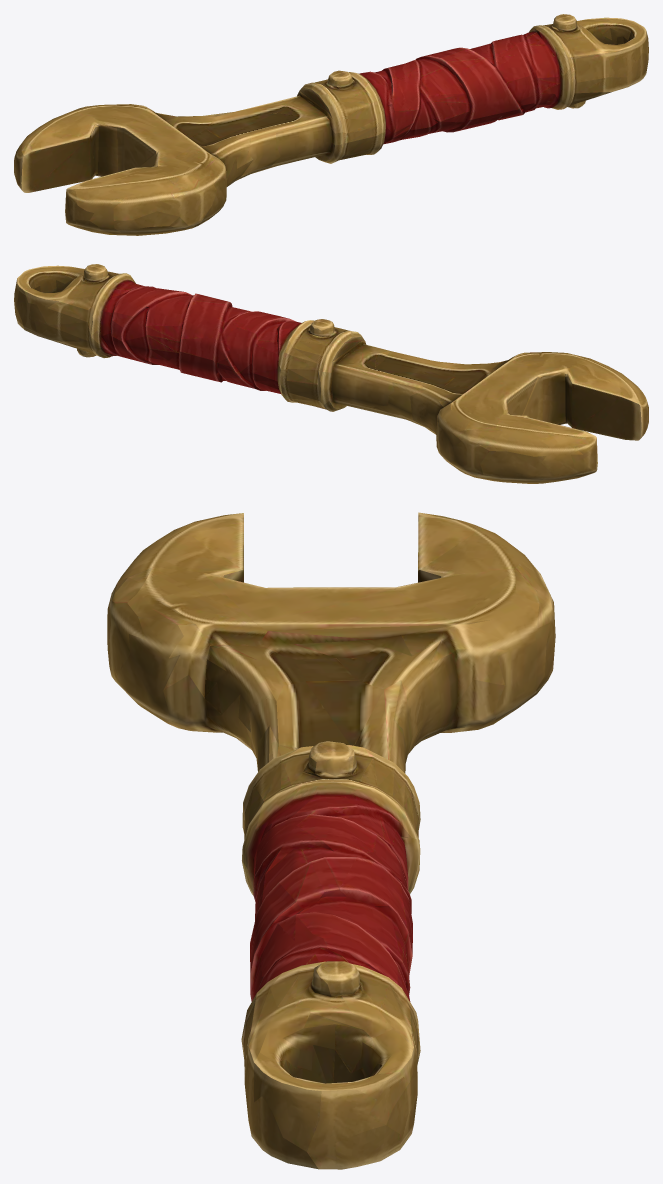
The model's file is tinker-wrench.glb.
The picture shows the model from 3 angles, top to bottom: view 1: azimuth 30°, elevation 25°; view 2: azimuth 150°, elevation 25°; view 3: azimuth 270°, elevation 25°; orthographic projection. The views are drawn at different scales.
Parts seen in each view (by area): view 1: output_unwrapped; view 2: output_unwrapped; view 3: output_unwrapped.
Boxes of the visible parts, x1,y1,x2,y2 form: output_unwrapped: (14, 14, 648, 235); output_unwrapped: (14, 264, 648, 483); output_unwrapped: (107, 512, 555, 1169).
Bounding box in the file's own units: 1.9 × 0.2711 × 0.6126.
1 material, 1 textured.
